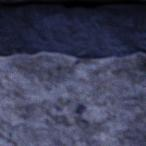brick: (0, 52, 145, 145), (0, 0, 26, 3), (35, 0, 56, 2), (79, 0, 119, 1), (135, 0, 145, 2)
crack: (0, 0, 145, 9)
